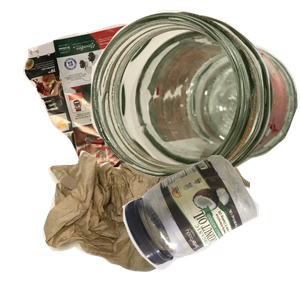glass: (90, 10, 300, 184)
paper: (20, 10, 231, 190)
plastic: (120, 152, 300, 300)
trash: (40, 138, 280, 300)
